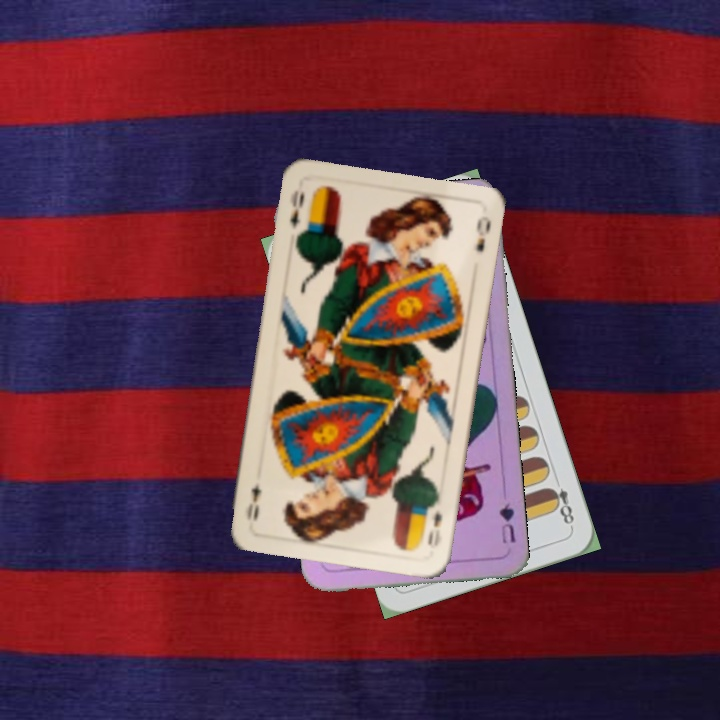E8: (544, 483, 577, 531)
EO: (423, 506, 445, 552), (286, 186, 307, 232)
GU: (495, 499, 518, 546)
